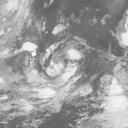cyclone: (21, 42, 91, 113)
